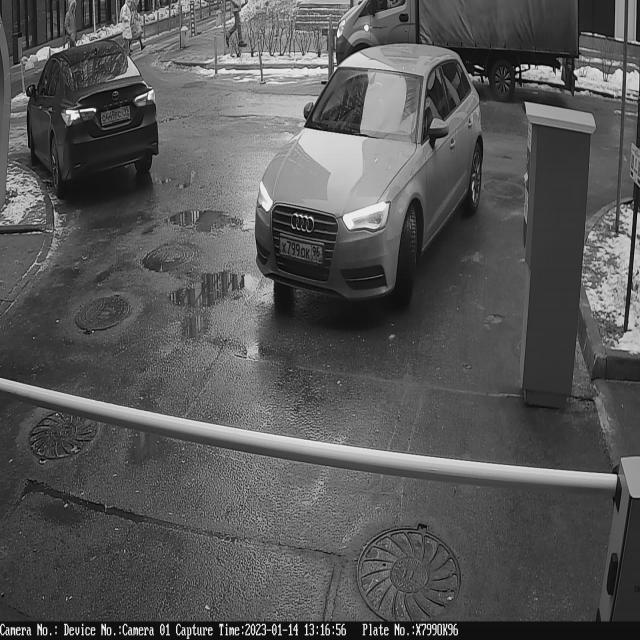car-plate-numbers: (276, 233, 326, 266)
